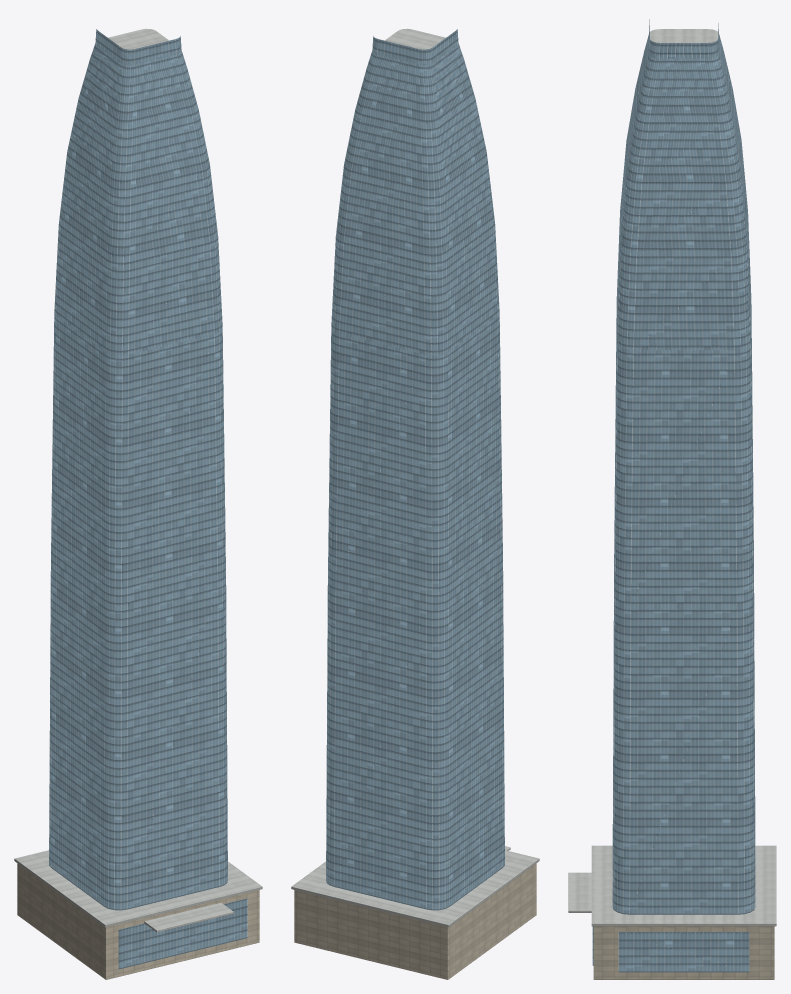
Rendered from LM_ENV_TRX.glb.
3 renders of one model, left to right at view 1: azimuth 30°, elevation 25°; view 2: azimuth 150°, elevation 25°; view 3: azimuth 270°, elevation 25°, orthographic.
Parts seen in each view (by area): view 1: TRX; view 2: TRX; view 3: TRX.
Part boxes in pixels (x1,y1,x2,y2): TRX: (14, 28, 262, 979); TRX: (291, 28, 539, 979); TRX: (568, 19, 776, 979).
Size of the model in its own units: 18.4 by 100 by 20.7.
4 materials, 4 textured.
